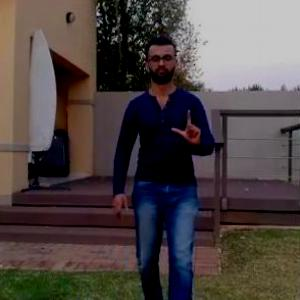land_hand: (168, 95, 209, 147)
